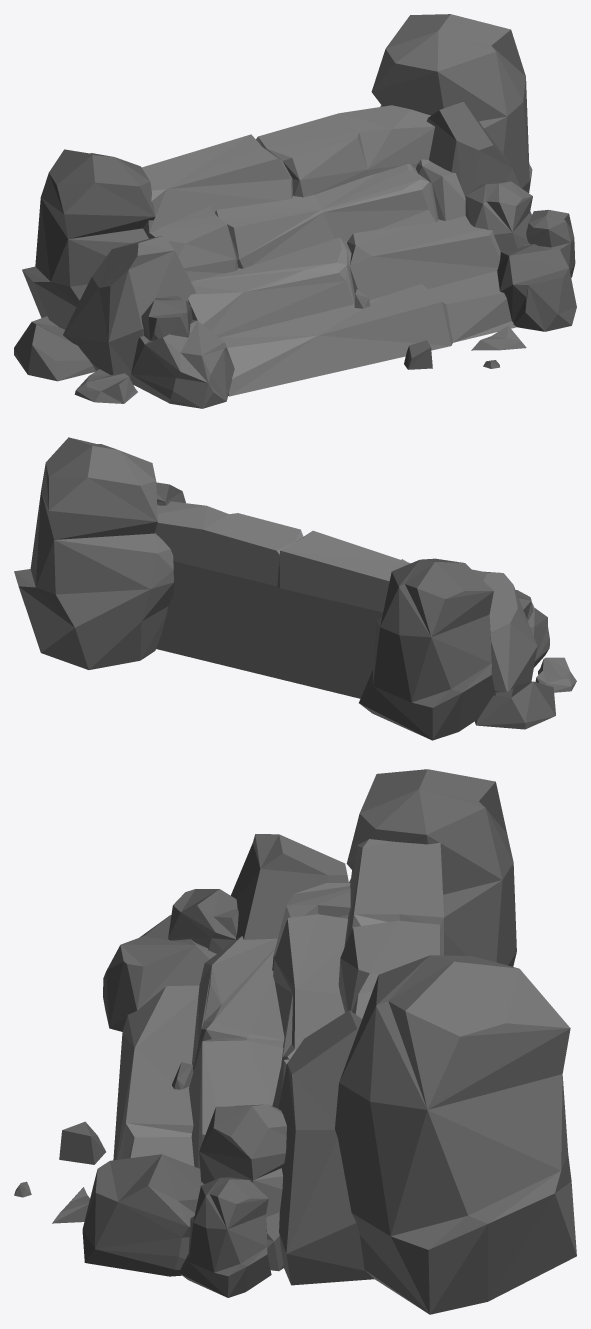
File: Stairs_02.FBX
3 views of the same model, one above another, from view 1: azimuth 30°, elevation 25°; view 2: azimuth 150°, elevation 25°; view 3: azimuth 270°, elevation 25° (orthographic). The views are drawn at different scales.
Parts seen in each view (by area): view 1: Stairs_02; view 2: Stairs_02; view 3: Stairs_02.
Boxes of the visible parts, <box> form: Stairs_02: <box>14,14,576,408</box>; Stairs_02: <box>14,437,576,740</box>; Stairs_02: <box>14,769,576,1314</box>.
Size of the model in its own units: 8.06 by 3.06 by 5.09.
